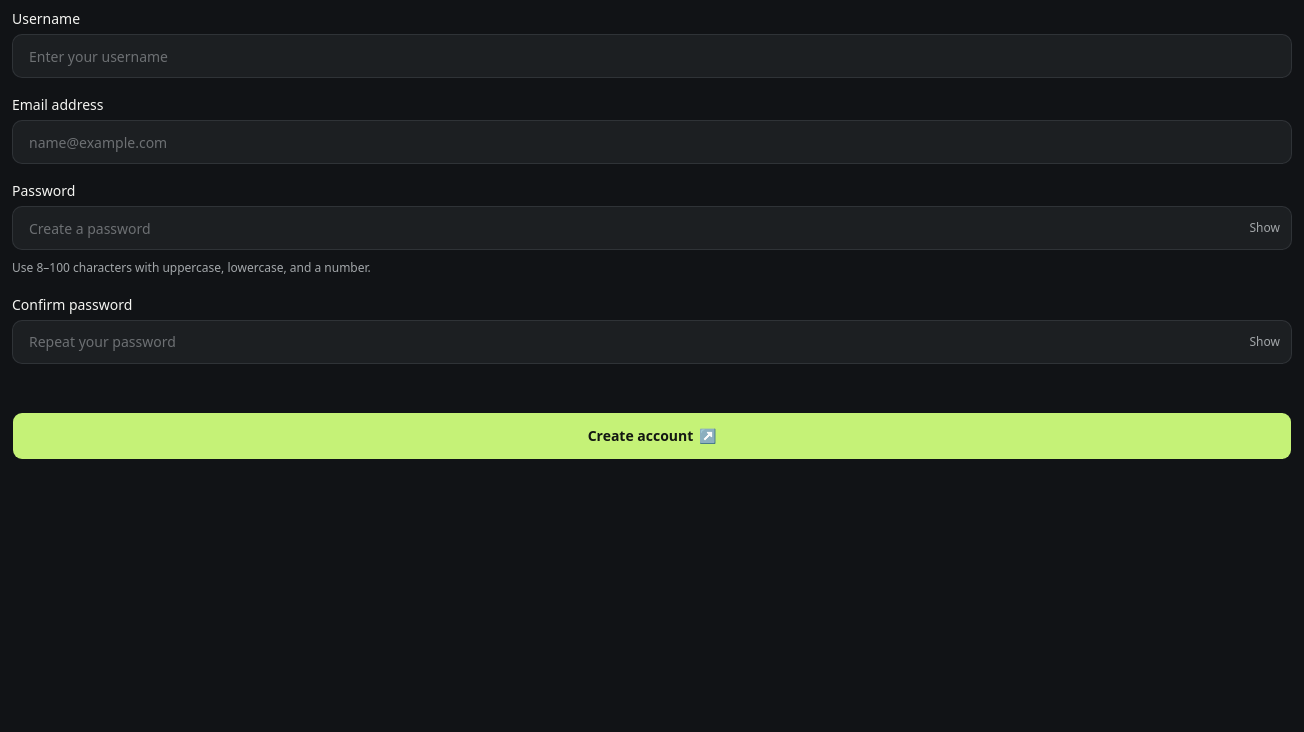
RegisterForm › shows duplicate email error without redirect
Type "careertrackuser" into the field labelled "Username" at (652, 56), box left=12, top=34, right=1292, bottom=78
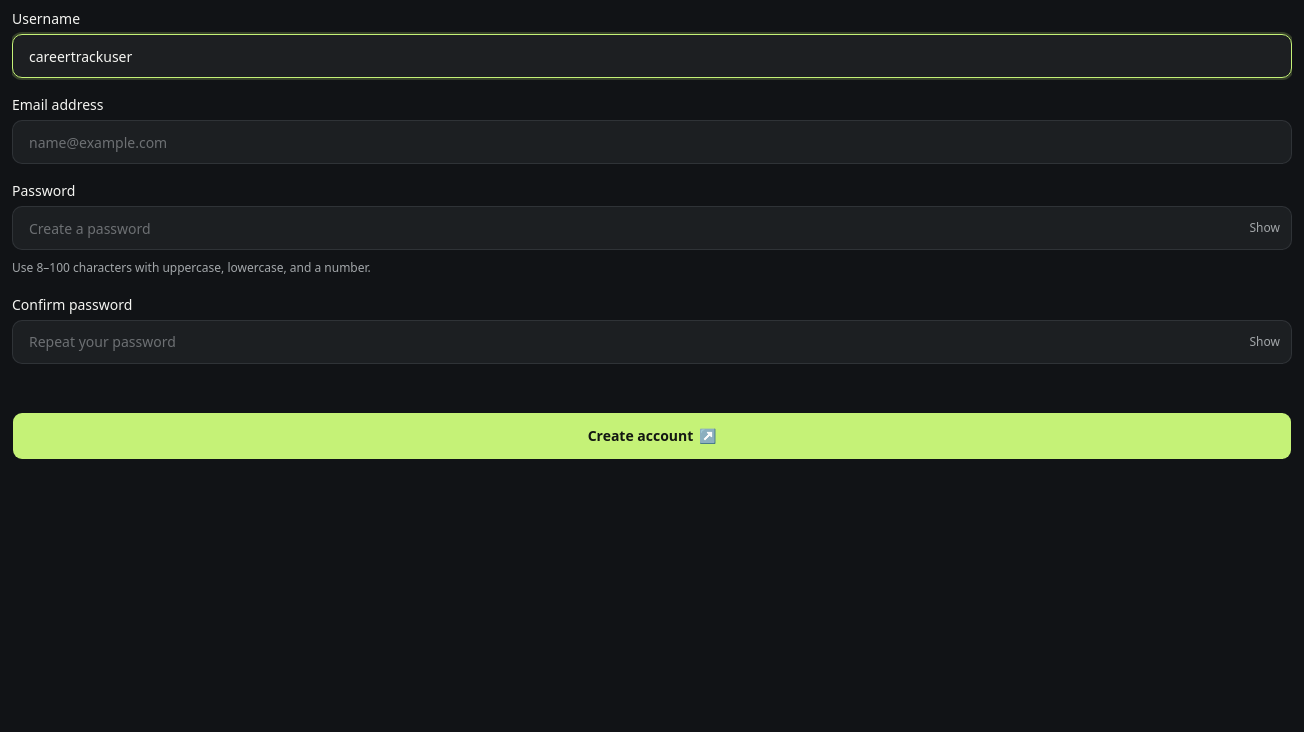
Type "careertrack@example.com" into the field labelled "Email address" at (652, 142), box left=12, top=120, right=1292, bottom=164
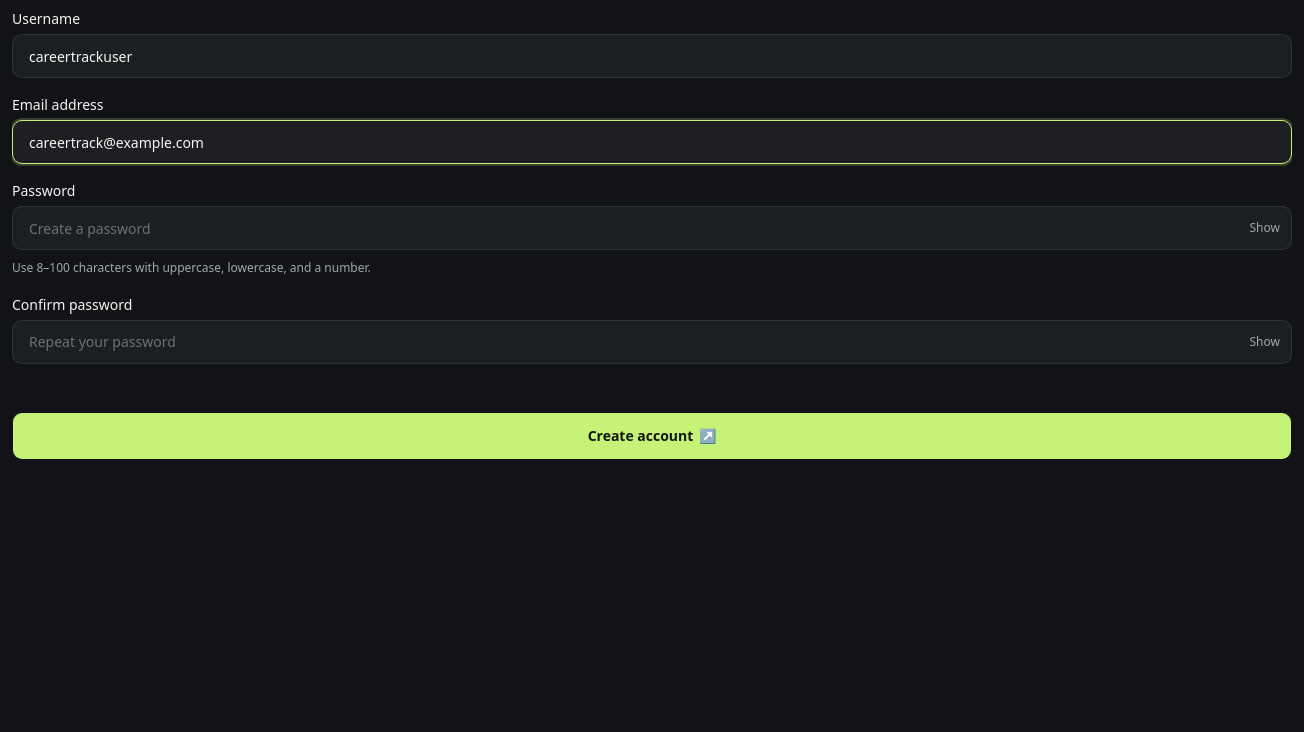
Type "Password123" into the password field labelled "Password" at (652, 228), box left=12, top=206, right=1292, bottom=250
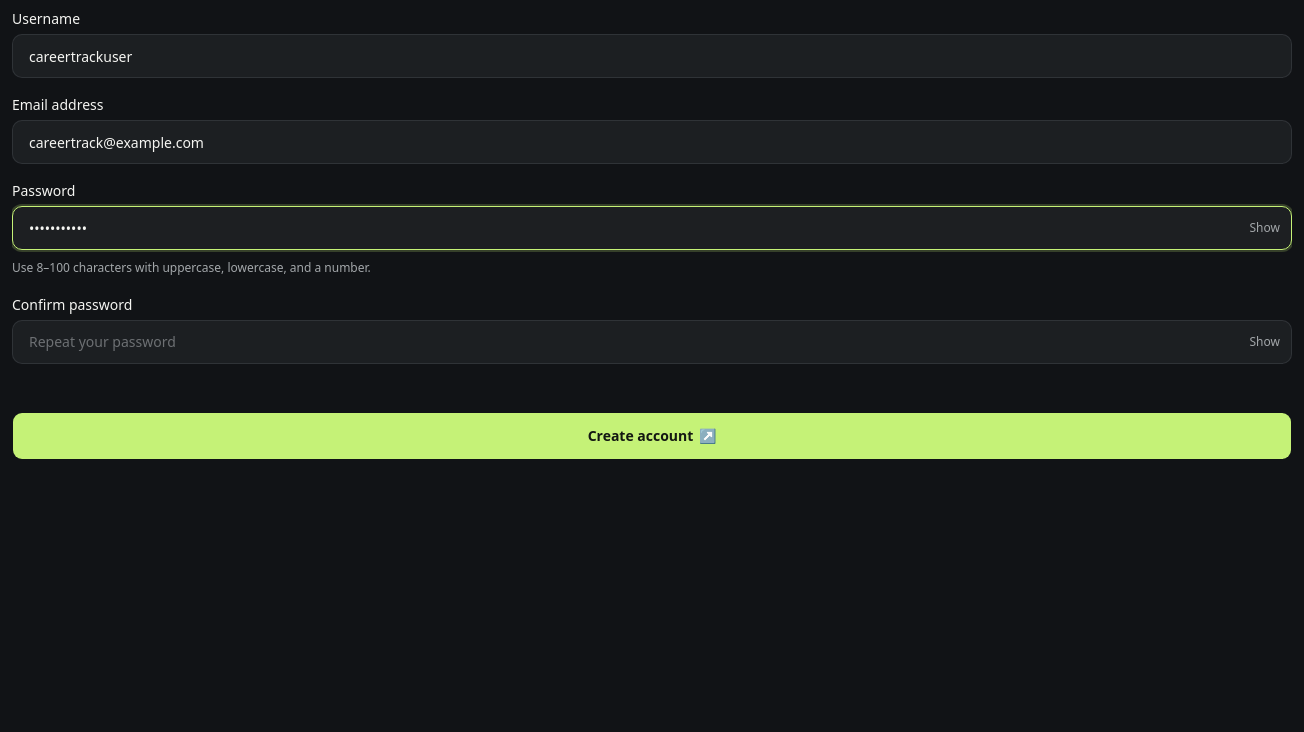
Type "Password123" into the password field labelled "Confirm password" at (652, 342), box left=12, top=320, right=1292, bottom=364
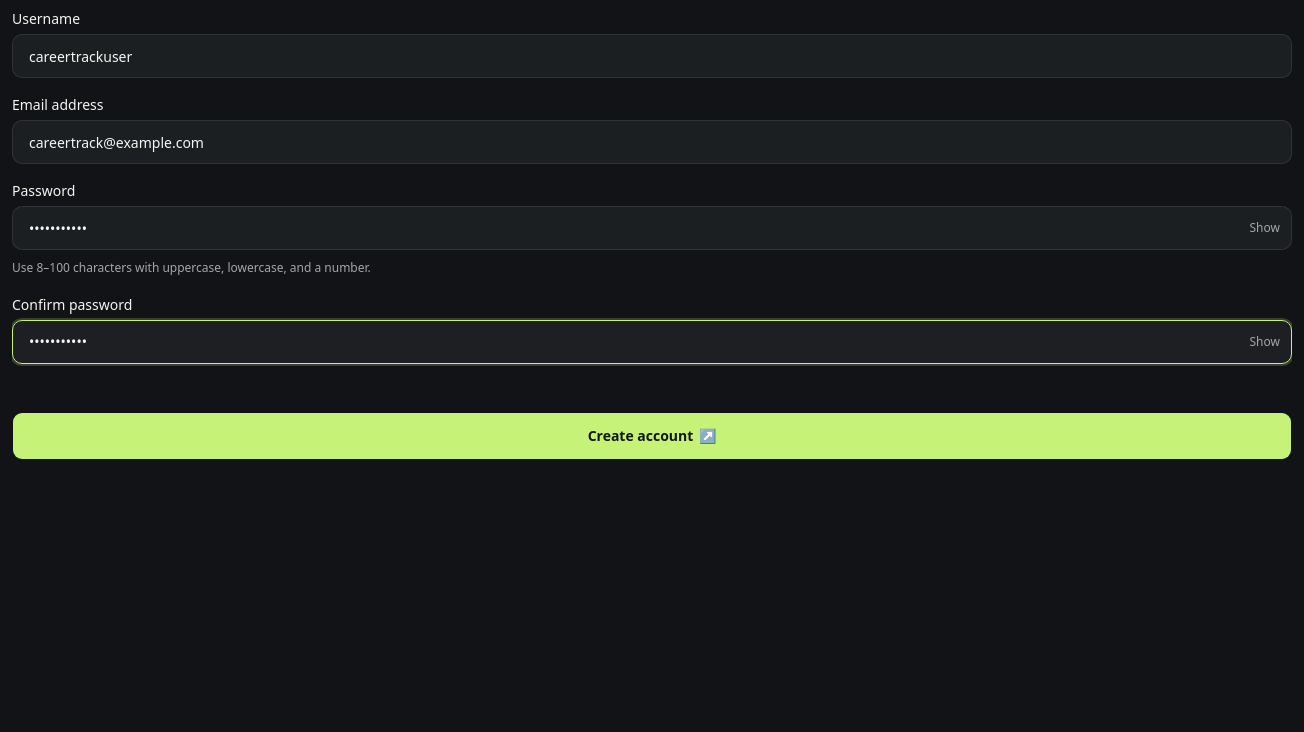
Click the button "Create account ↗" at (652, 436), box left=12, top=412, right=1292, bottom=460
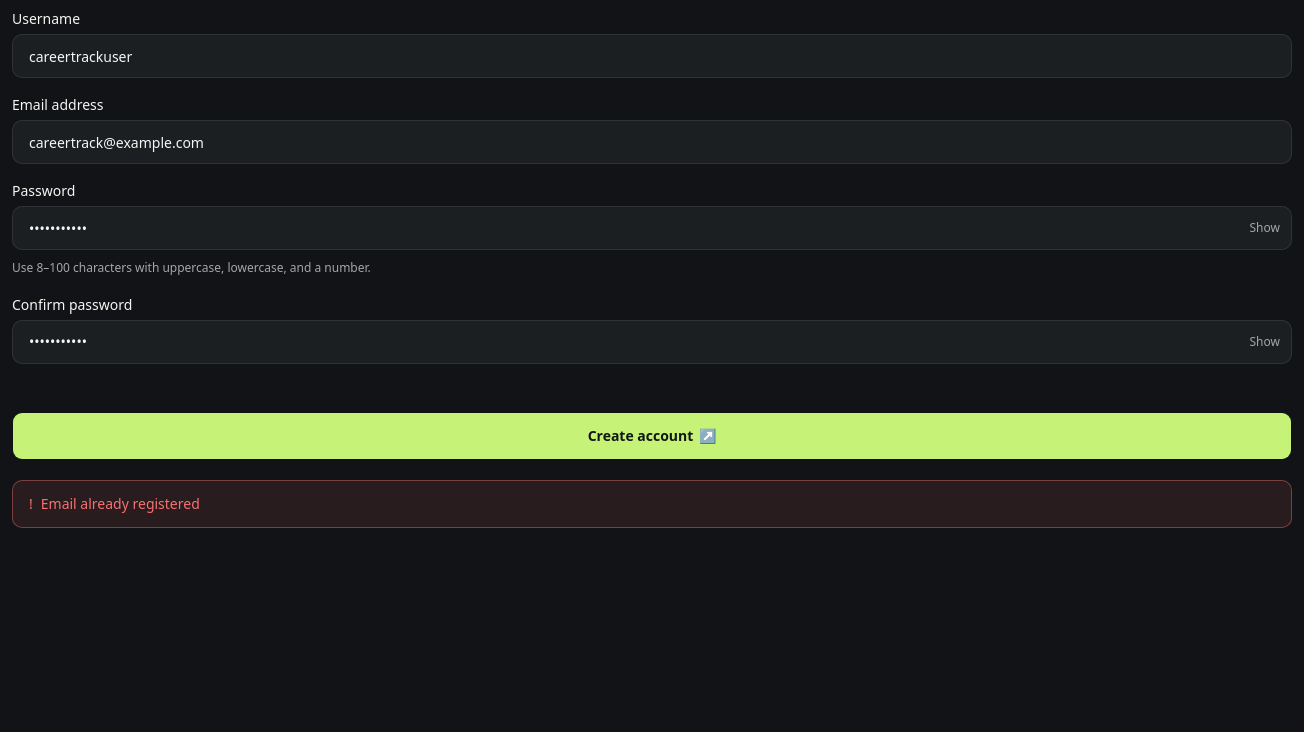
expect the text "Email already registered" is shown: met, box left=41, top=492, right=200, bottom=515
